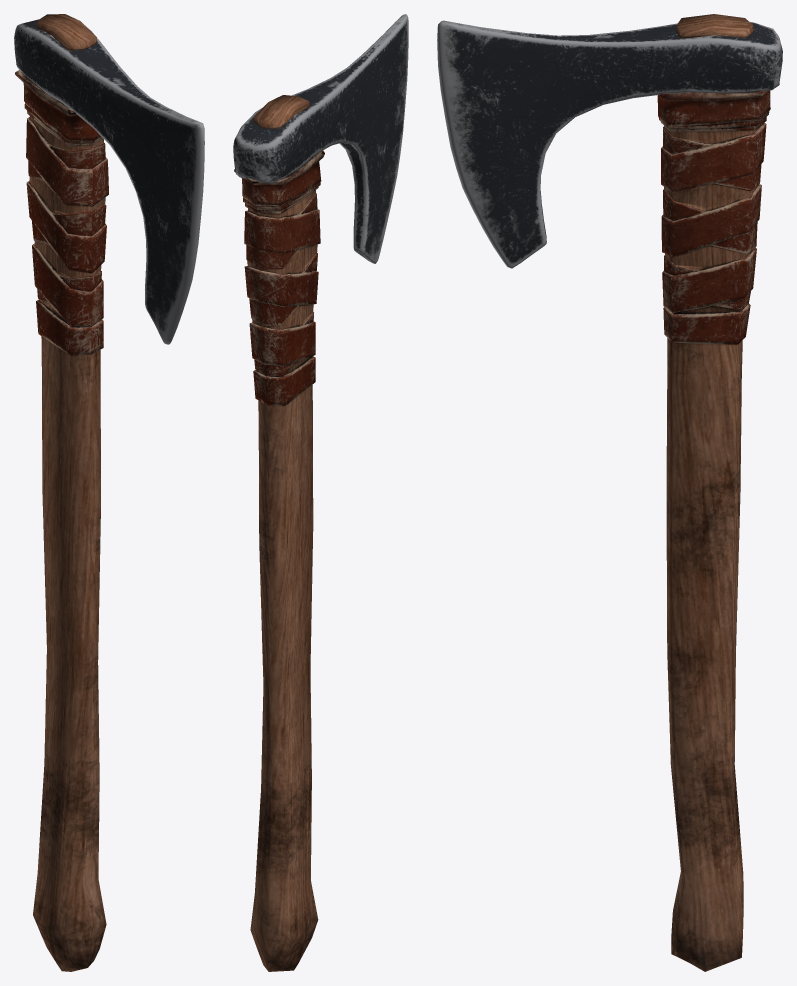
The picture shows the model from 3 angles, left to right: view 1: azimuth 30°, elevation 25°; view 2: azimuth 150°, elevation 25°; view 3: azimuth 270°, elevation 25°; orthographic projection. The views are drawn at different scales.
Parts seen in each view (by area): view 1: wood.004, metal.004; view 2: wood.004, metal.004; view 3: wood.004, metal.004.
Part boxes in pixels (x1,y1,x2,y2): wood.004: [15, 14, 108, 971]; metal.004: [14, 19, 204, 344]; wood.004: [234, 95, 324, 971]; metal.004: [233, 14, 408, 263]; wood.004: [657, 14, 770, 971]; metal.004: [437, 20, 782, 268].
Size of the model in its own units: 27.73 by 446 by 147.
Materials: 3 (3 with a texture image).
